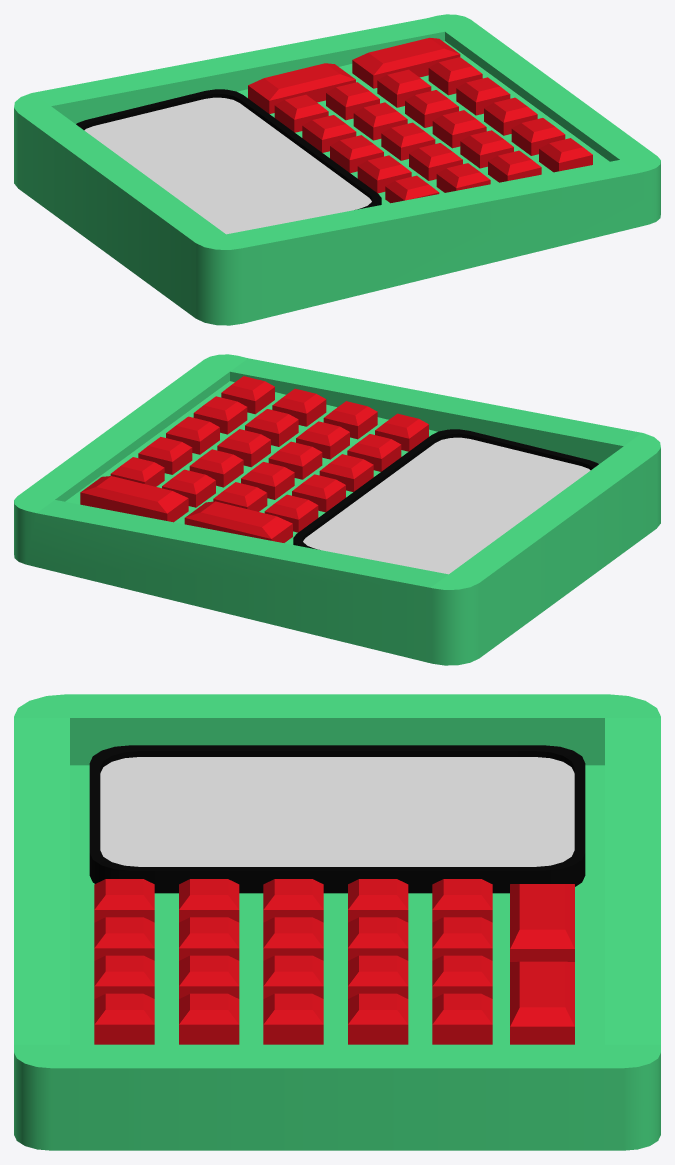
File: Access Panel 1.fbx
3 views of the same model, one above another, from view 1: azimuth 30°, elevation 25°; view 2: azimuth 150°, elevation 25°; view 3: azimuth 270°, elevation 25° (orthographic). The views are drawn at different scales.
Parts seen in each view (by area): view 1: Cube, Cube.004, Cube.001; view 2: Cube, Cube.004, Cube.001; view 3: Cube, Cube.001, Cube.004.
Part boxes in pixels (x1=…): Cube: x1=14, y1=14, x2=660, y2=325; Cube.004: x1=248, y1=37, x2=592, y2=203; Cube.001: x1=76, y1=89, x2=381, y2=234; Cube: x1=14, y1=354, x2=660, y2=665; Cube.004: x1=80, y1=376, x2=428, y2=542; Cube.001: x1=293, y1=429, x2=598, y2=574; Cube: x1=14, y1=694, x2=660, y2=1150; Cube.001: x1=89, y1=745, x2=585, y2=893; Cube.004: x1=94, y1=879, x2=574, y2=1044.
Size of the model in its own units: 728 by 132 by 583.
